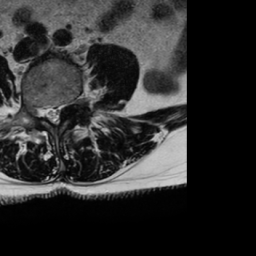CCS_stenosis: (51, 100, 57, 130)
LFS_severe_stenosis: (63, 94, 70, 112)
LLS_normal: (57, 98, 64, 126)
RFS_normal: (36, 96, 44, 124)
RLS_normal: (44, 99, 51, 127)
